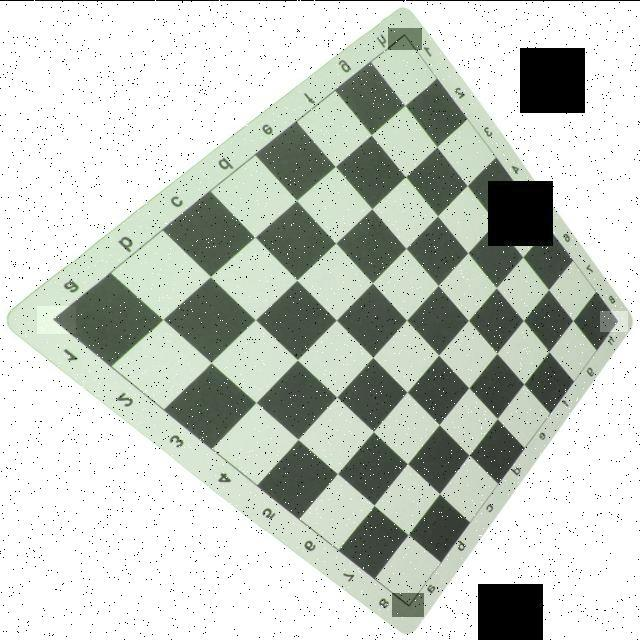chess-table-corners: (37, 305, 76, 333), (392, 592, 424, 616), (388, 27, 422, 49), (600, 310, 628, 331)
